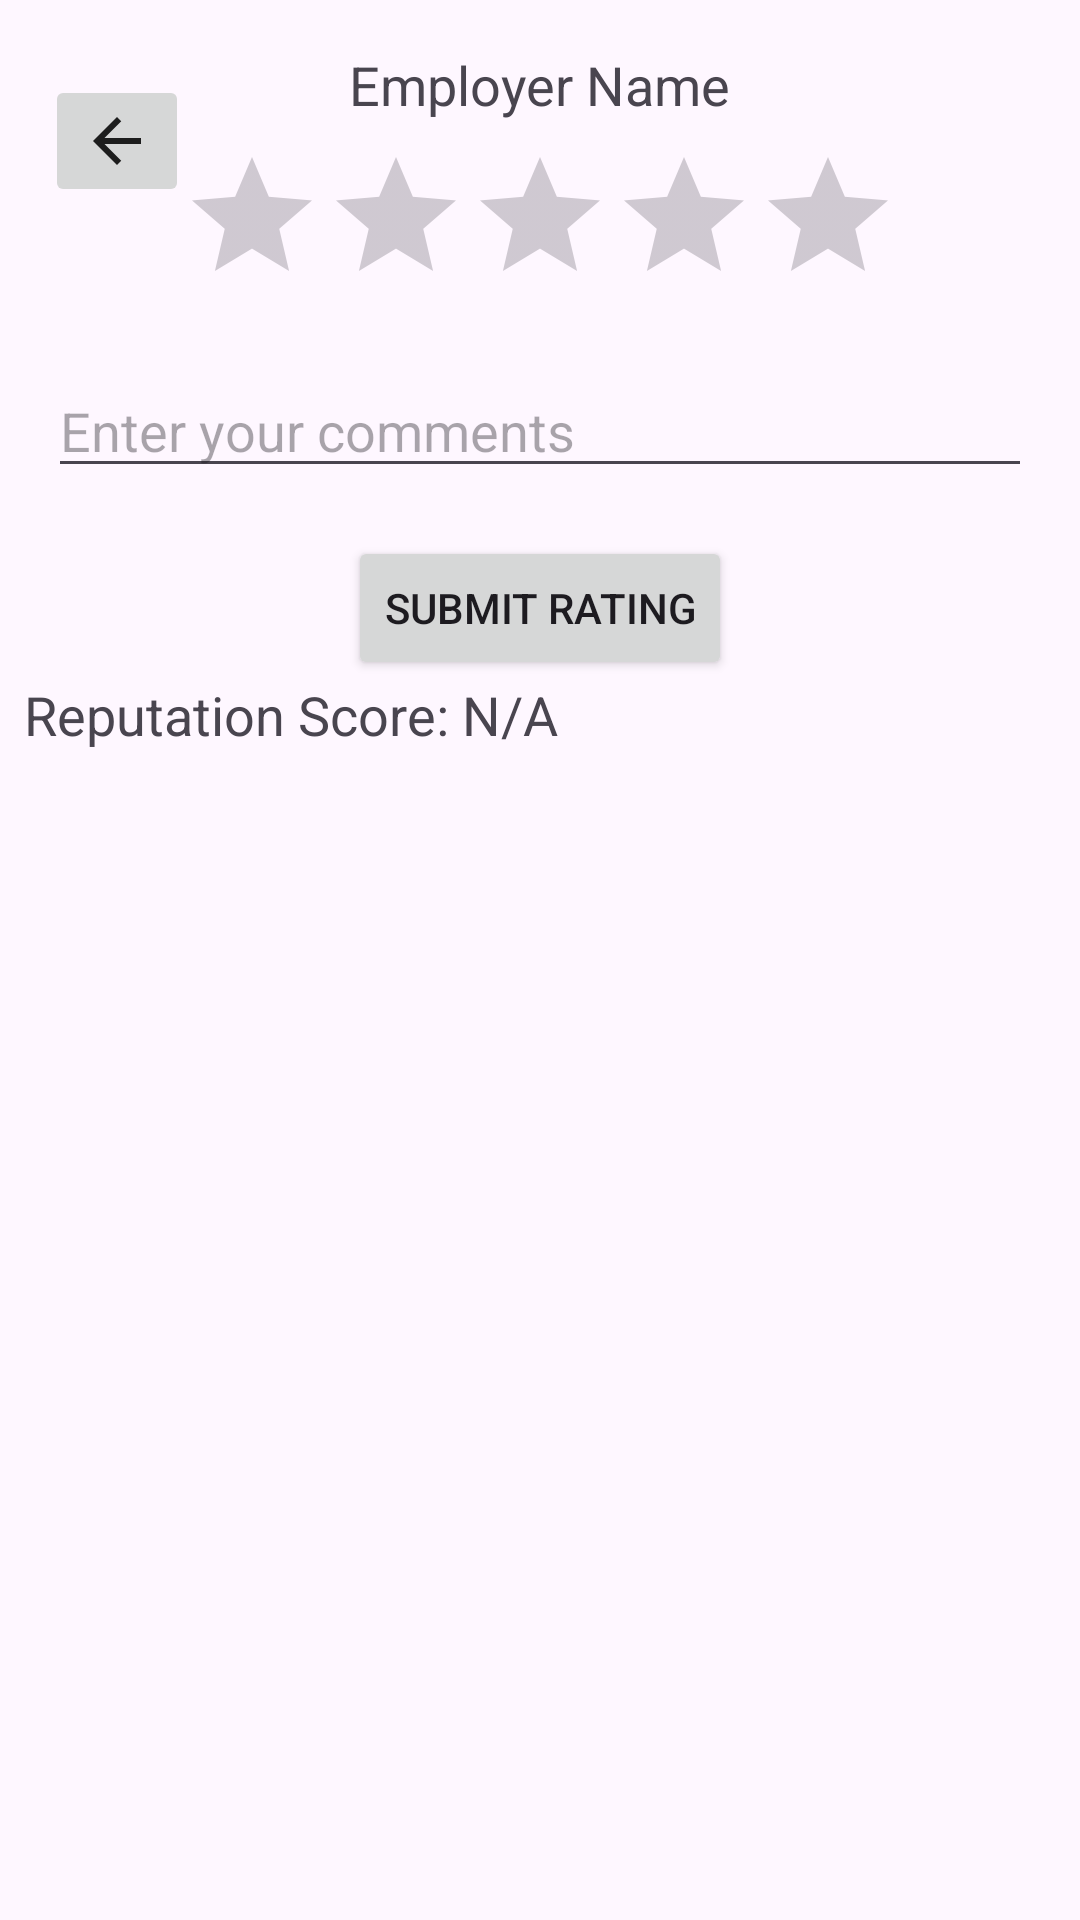

Where icons sit on this 1080×1920 app screen, as {"left": x1, "top": y1, "right": x2, "bottom": y2}:
arrow back: {"left": 57, "top": 93, "right": 177, "bottom": 189}
